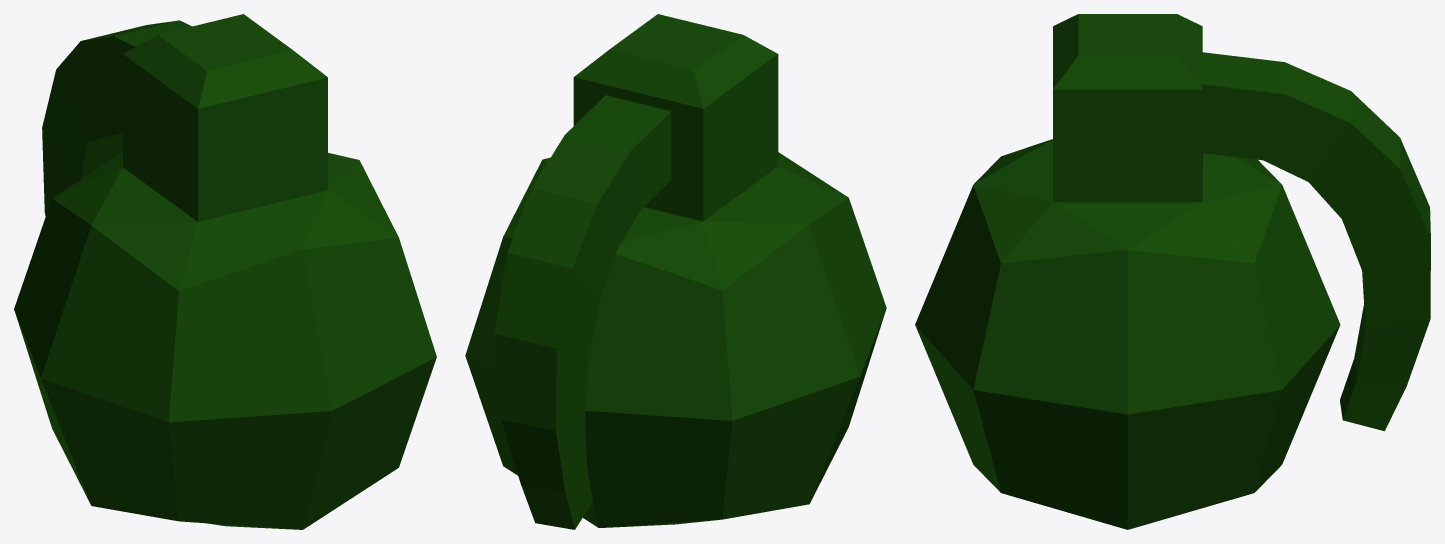
Rendered from gernade.glb.
The picture shows the model from 3 angles, left to right: view 1: azimuth 30°, elevation 25°; view 2: azimuth 150°, elevation 25°; view 3: azimuth 270°, elevation 25°; orthographic projection.
Visible parts, largest first — view 1: Cube.001; view 2: Cube.001; view 3: Cube.001.
Boxes of the visible parts, box(x1,y1,x2,y2) form: Cube.001: box(14, 14, 436, 529); Cube.001: box(465, 14, 886, 529); Cube.001: box(915, 14, 1430, 529).
Bounding box in the file's own units: 0.1167 × 0.146 × 0.1415.
